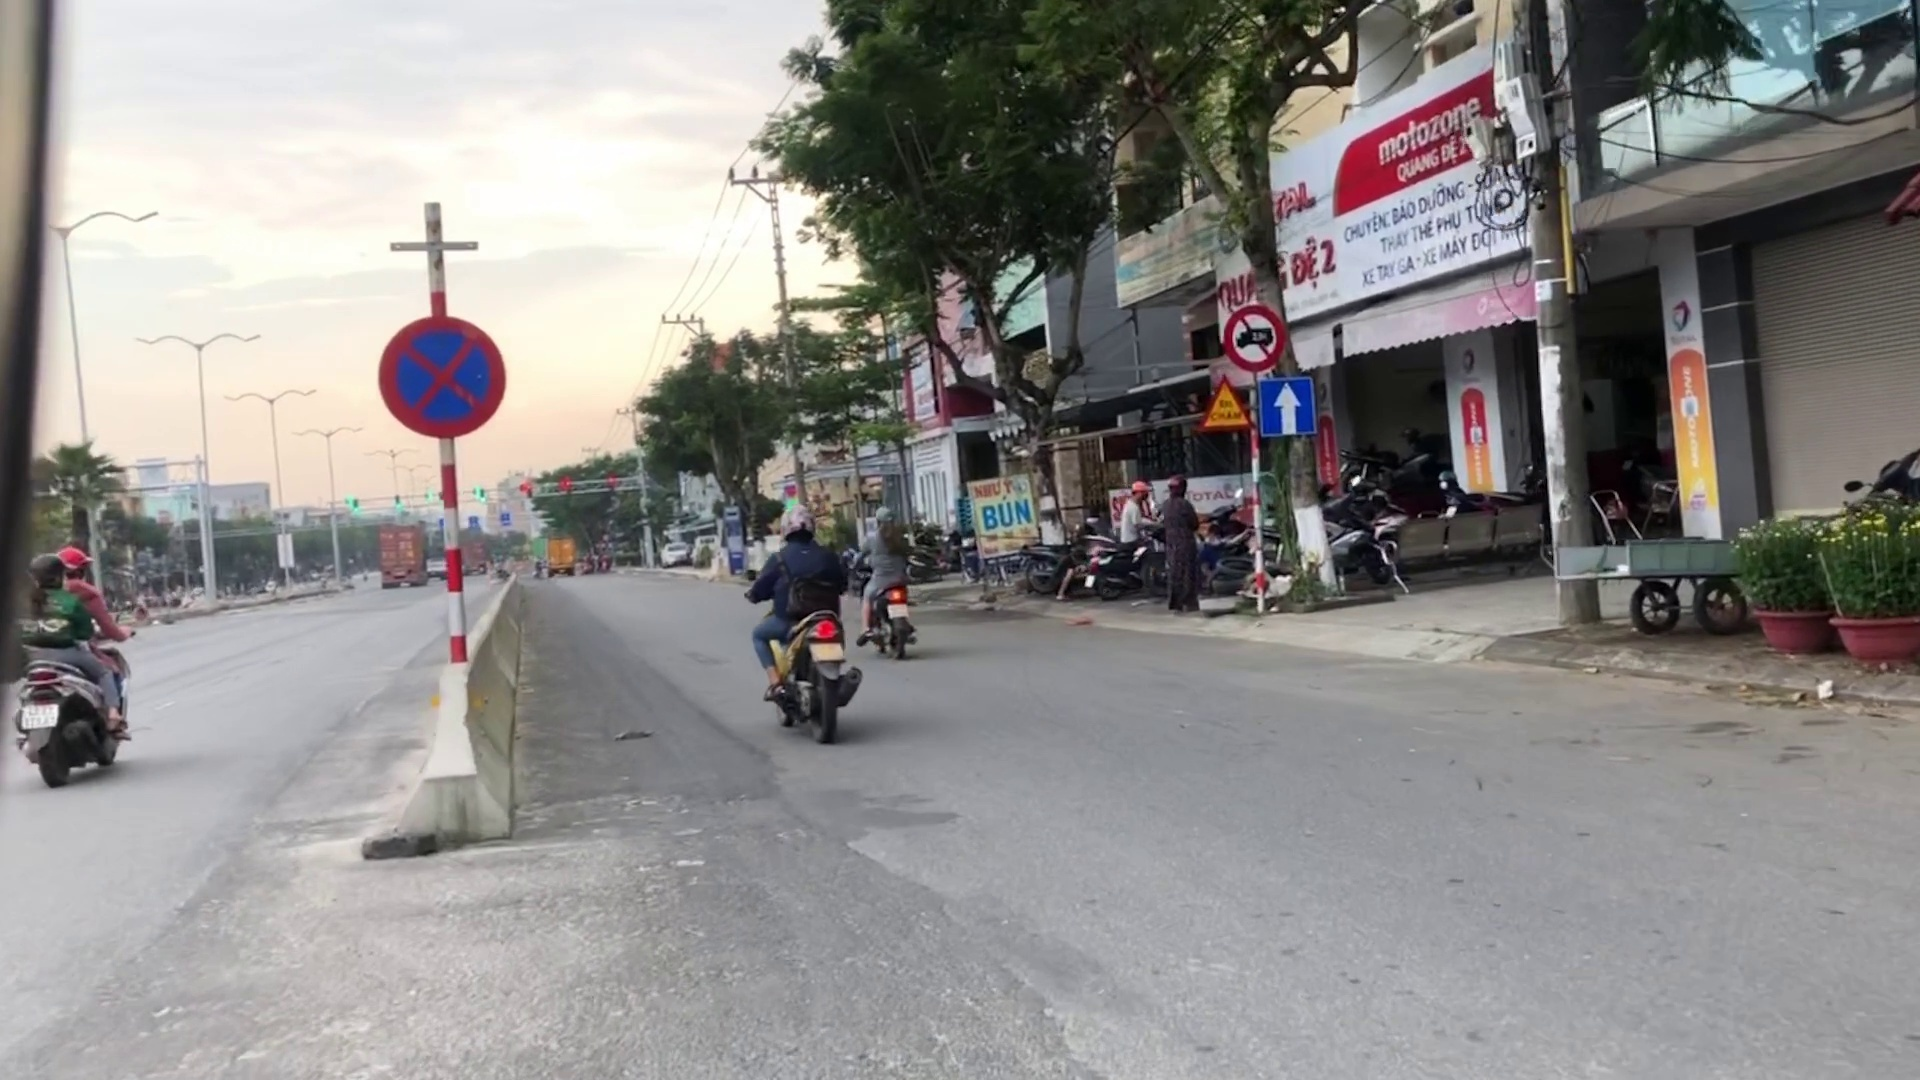Bien khac: (378, 316, 514, 439), (1222, 305, 1284, 377), (1255, 378, 1313, 438), (1195, 378, 1249, 427)
